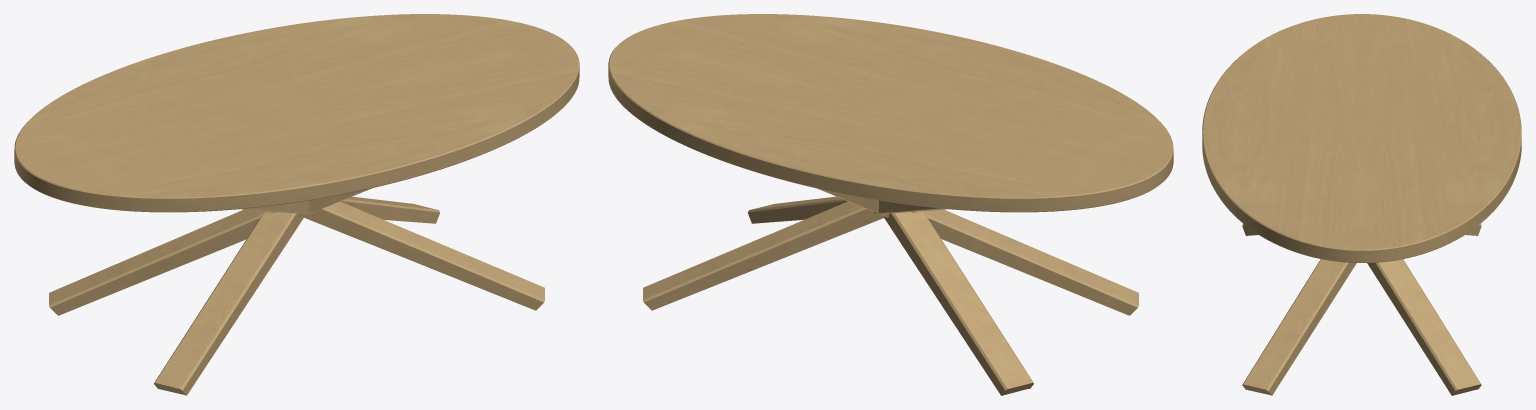
Rendered from ellipse-beech.glb.
3 views of the same model, side by side, from view 1: azimuth 30°, elevation 25°; view 2: azimuth 150°, elevation 25°; view 3: azimuth 270°, elevation 25° (orthographic). The views are drawn at different scales.
Parts seen in each view (by area): view 1: Wood_Ellipse, Base_Ellipse; view 2: Wood_Ellipse, Base_Ellipse; view 3: Wood_Ellipse, Base_Ellipse.
Boxes of the visible parts, bbox=[...] form: Wood_Ellipse: bbox=[14, 14, 579, 212]; Base_Ellipse: bbox=[49, 188, 544, 395]; Wood_Ellipse: bbox=[608, 14, 1173, 212]; Base_Ellipse: bbox=[643, 188, 1138, 395]; Wood_Ellipse: bbox=[1202, 14, 1521, 262]; Base_Ellipse: bbox=[1242, 224, 1481, 395].
Size of the model in its own units: 2.13 by 0.762 by 1.22.
Materials: 1 (1 with a texture image).
